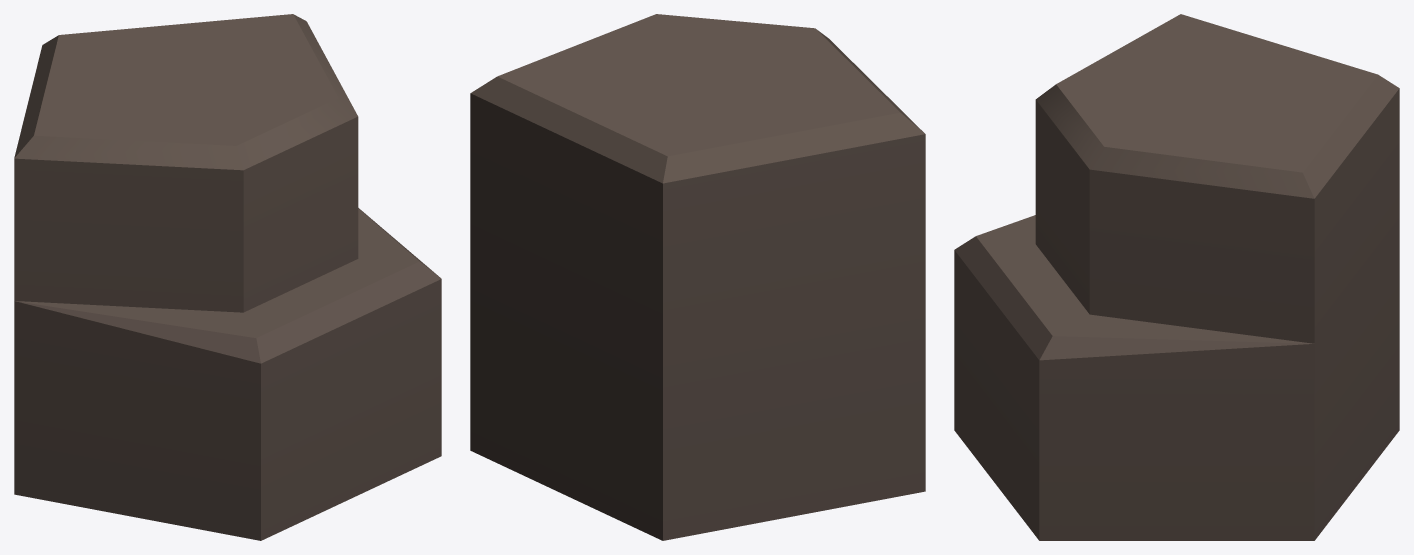
The model's file is Rock_1_A_Color6.fbx.
The picture shows the model from 3 angles, left to right: view 1: azimuth 30°, elevation 25°; view 2: azimuth 150°, elevation 25°; view 3: azimuth 270°, elevation 25°; orthographic projection. The views are drawn at different scales.
Parts seen in each view (by area): view 1: Rock_1_A_Color6; view 2: Rock_1_A_Color6; view 3: Rock_1_A_Color6.
Boxes of the visible parts, x1,y1,x2,y2 form: Rock_1_A_Color6: [14, 14, 441, 540]; Rock_1_A_Color6: [470, 14, 925, 540]; Rock_1_A_Color6: [954, 14, 1399, 540].
Bounding box in the file's own units: 0.578 × 0.5403 × 0.6078.
